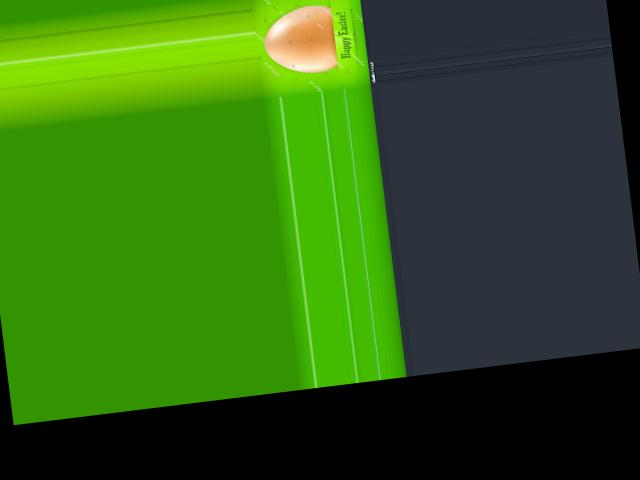egg: (260, 3, 338, 77)
